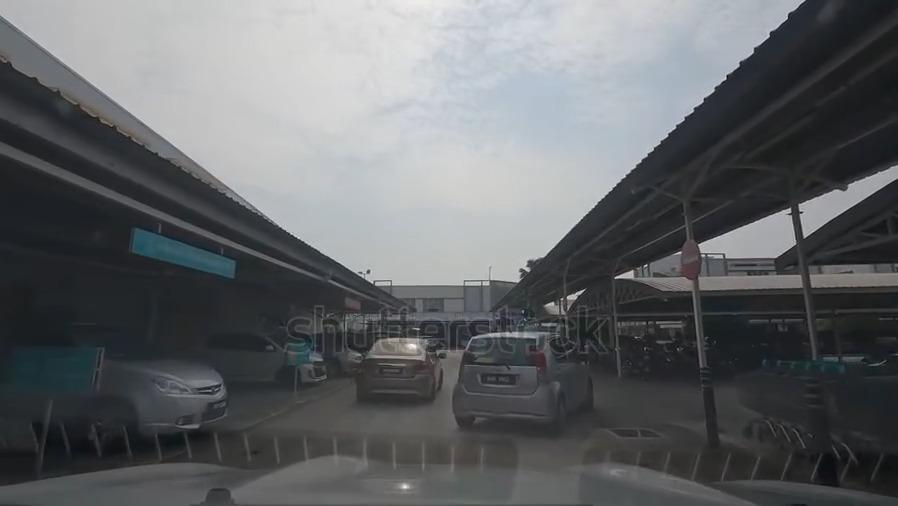car: (9, 317, 227, 447), (463, 333, 591, 427), (204, 330, 323, 387), (359, 339, 440, 401), (321, 337, 362, 380)
manhole: (608, 421, 663, 446)
wheel: (80, 399, 132, 447), (552, 394, 570, 432), (274, 367, 299, 391), (323, 355, 342, 380)
